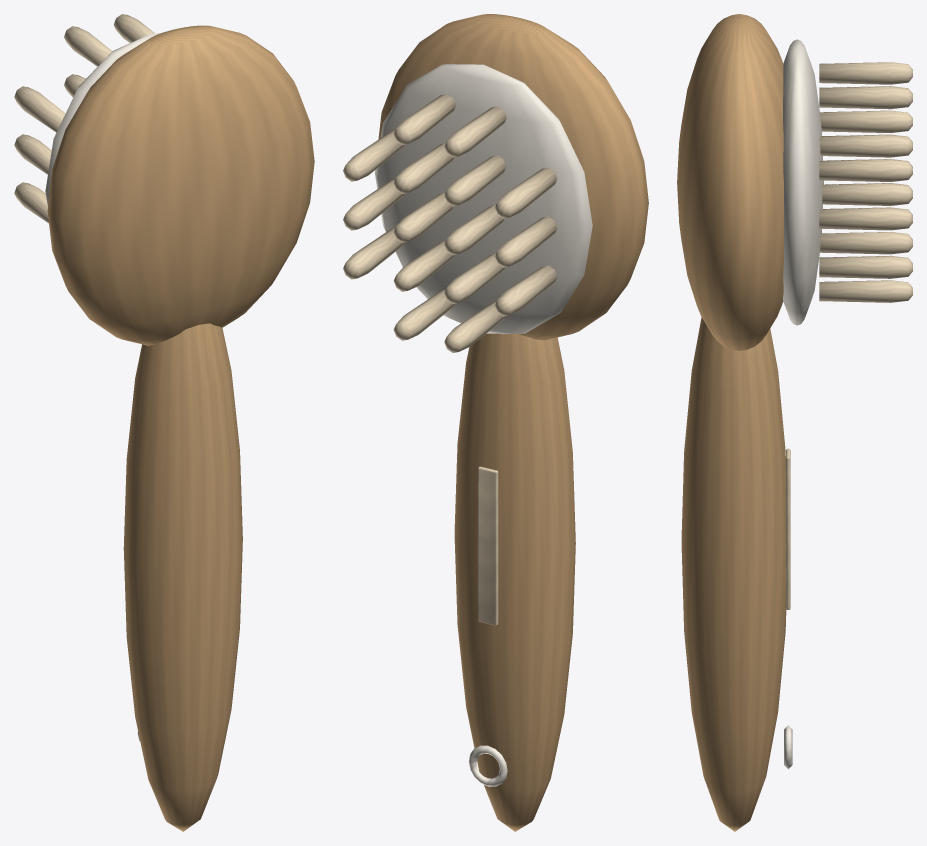
The model's file is test_b_brush.glb.
3 renders of one model, left to right at view 1: azimuth 30°, elevation 25°; view 2: azimuth 150°, elevation 25°; view 3: azimuth 270°, elevation 25°, orthographic.
Parts seen in each view (by area): view 1: Body; view 2: Body; view 3: Body.
Boxes of the visible parts, x1,y1,x2,y2 form: Body: (14,14,314,831); Body: (343,14,648,831); Body: (677,14,912,831).
Size of the model in its own units: 0.068 by 0.2 by 0.053.
Materials: 3 (3 with a texture image).
